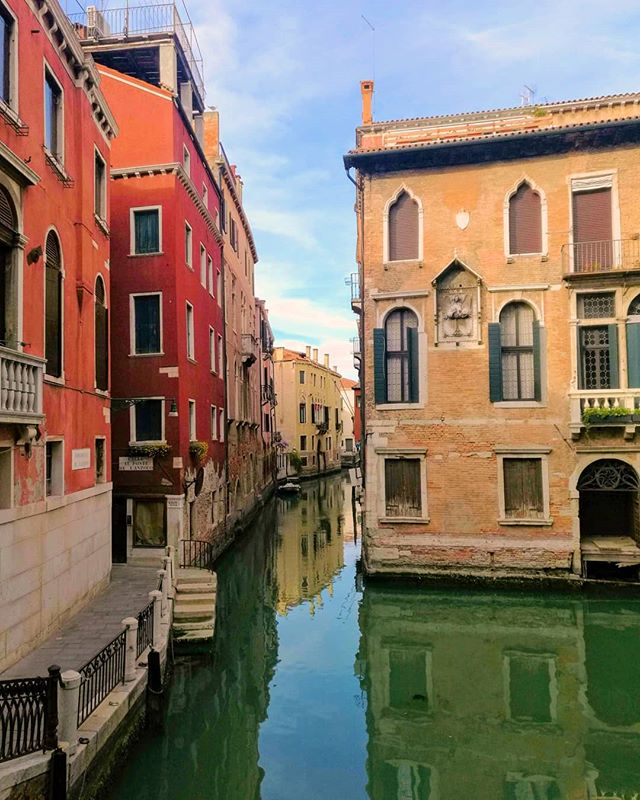building: (358, 91, 640, 571), (1, 11, 126, 785), (105, 27, 267, 577), (269, 349, 344, 477)
river: (224, 581, 640, 800), (154, 475, 367, 800)
sky: (250, 1, 362, 343), (255, 1, 640, 99)
